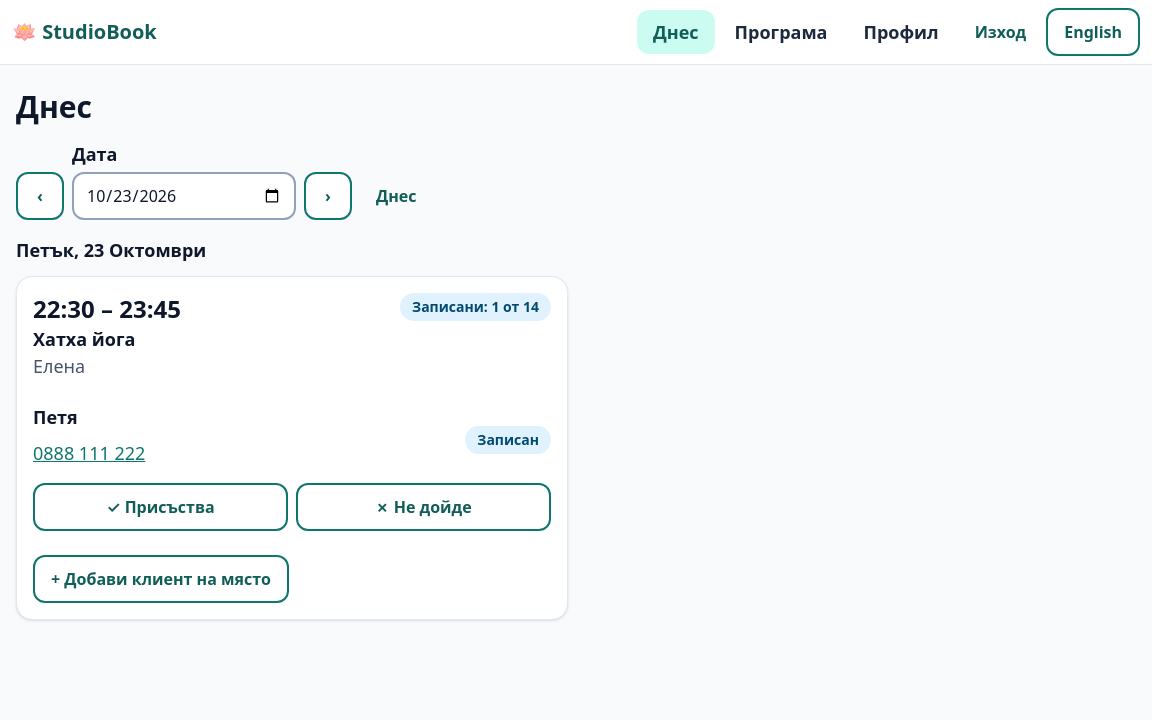
instructor page › AC-25/26/27: shows attendees with phone, marks attendance, searches walk-ins
Expected: the text "Петя" is shown, x1=33 y1=405 x2=78 y2=429
Expected: the link "0888 111 222" is shown, x1=33 y1=440 x2=145 y2=464
Click the button "✓ Присъства": [160, 507] box x1=33 y1=483 x2=288 y2=531
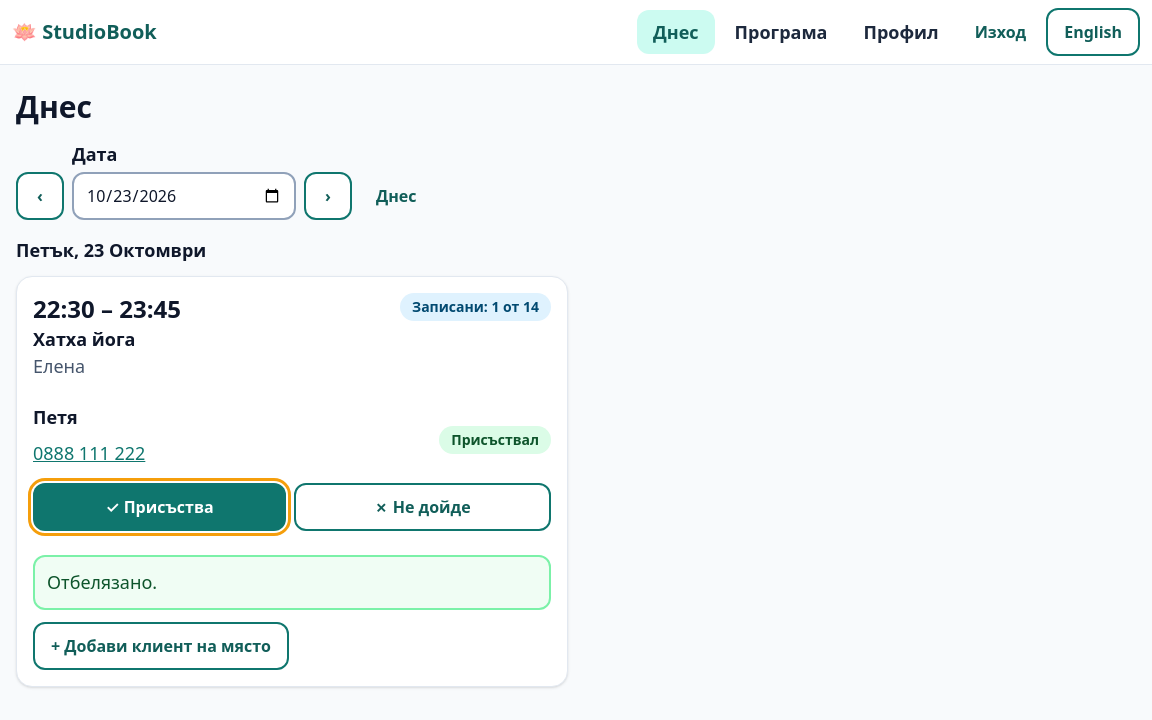
Result: the text "Отбелязано." is shown at x1=33 y1=555 x2=551 y2=610
Click the button "+ Добави клиент на място": [161, 646] box x1=33 y1=622 x2=289 y2=670
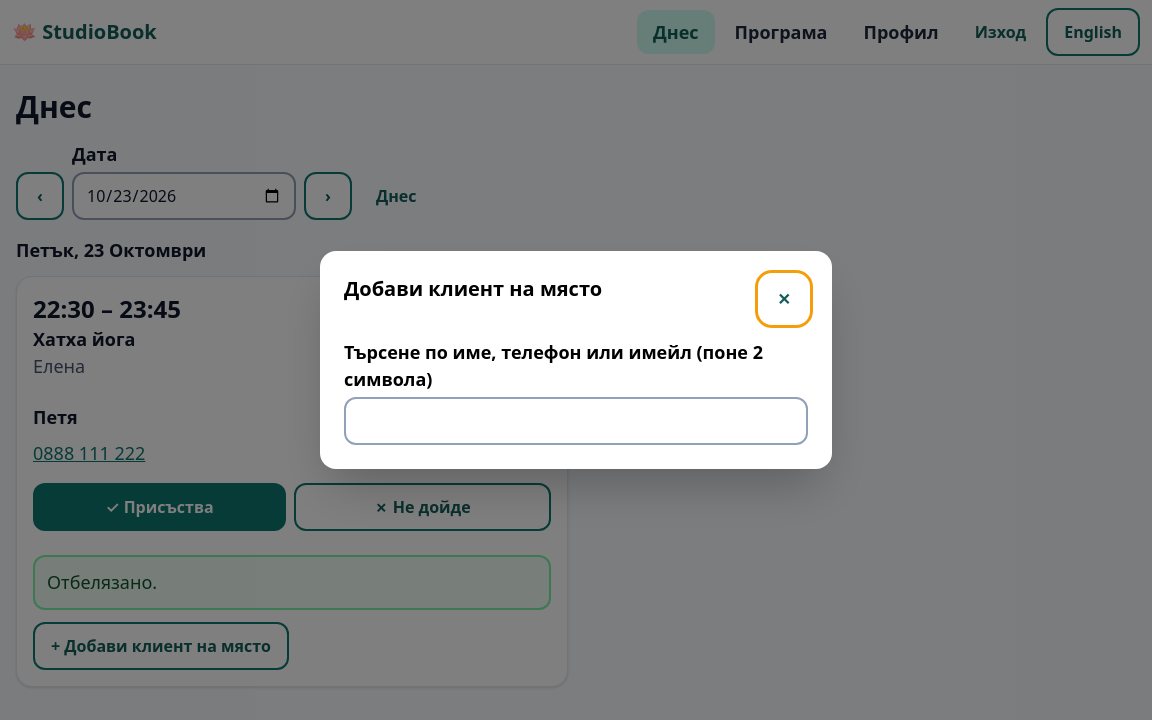
In the search field labelled "Търсене по име, телефон или имейл (поне 2 символа)": [576, 421] box x1=344 y1=397 x2=808 y2=445, type "Го"
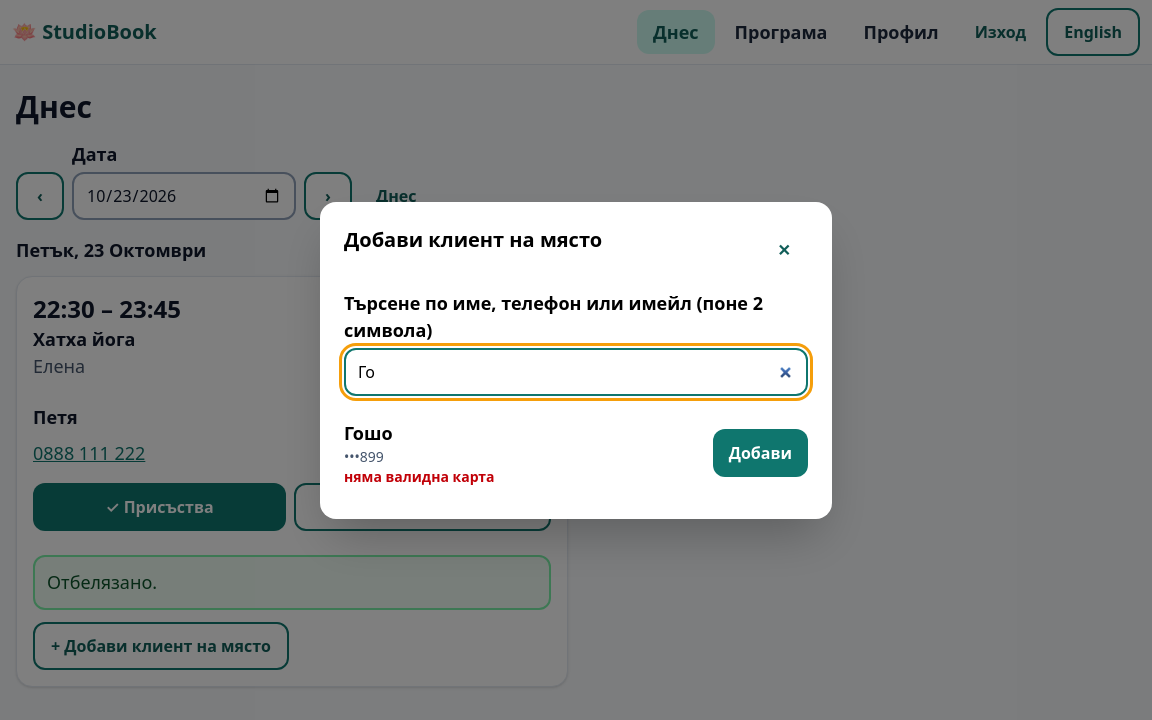
Result: the text "Гошо" is shown at x1=344 y1=420 x2=393 y2=444
Result: the text "няма валидна карта" is shown at x1=344 y1=466 x2=495 y2=486
